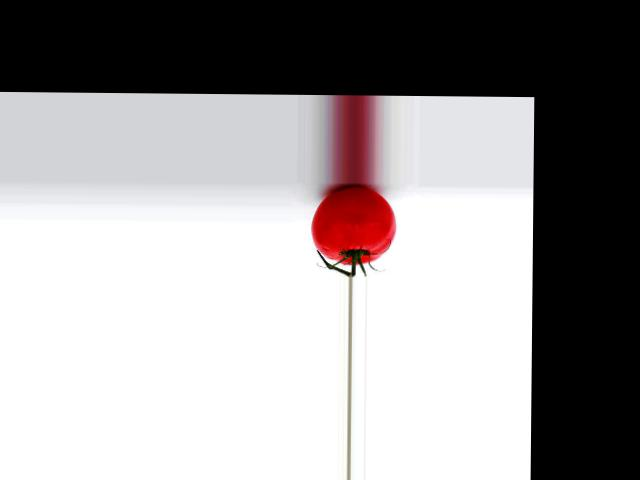tomato: (312, 185, 397, 264)
